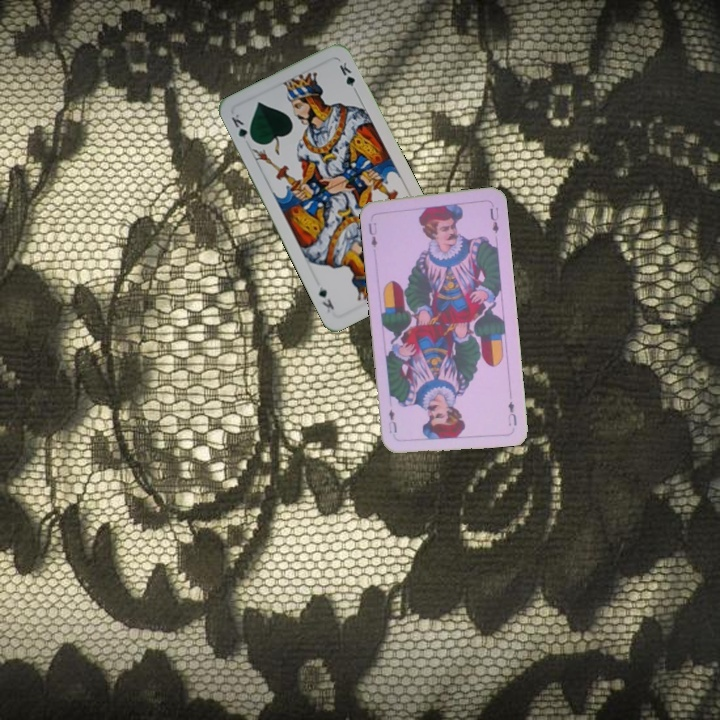EU: (365, 218, 380, 250), (504, 397, 519, 429)
GK: (227, 110, 256, 145)
